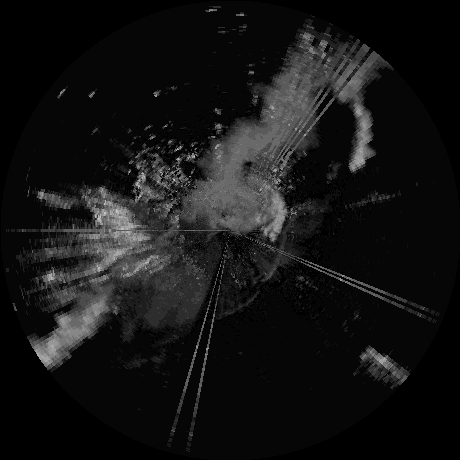frontgust: (263, 223, 292, 282)
